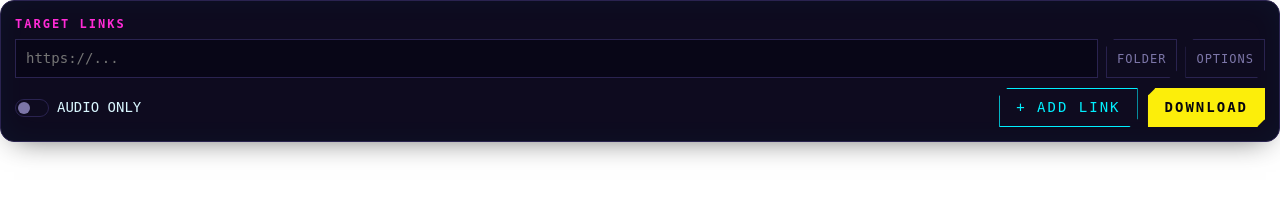
UrlInput submit › clears the row error as soon as the user types
Click the button "DOWNLOAD". click: (1206, 108)
box: [1148, 88, 1265, 127]
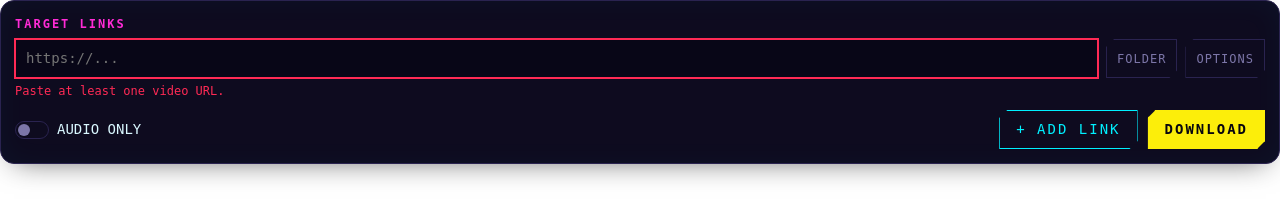
Expected: the message "Paste at least one video URL." is shown, [15, 84, 224, 98]
Type "h" into the field named "Link 1". click: (557, 58)
box: [15, 39, 1098, 78]
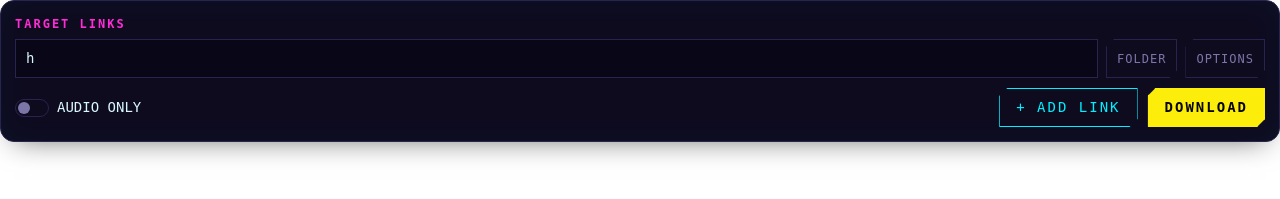
Expected: the message "Paste at least one video URL." is gone
